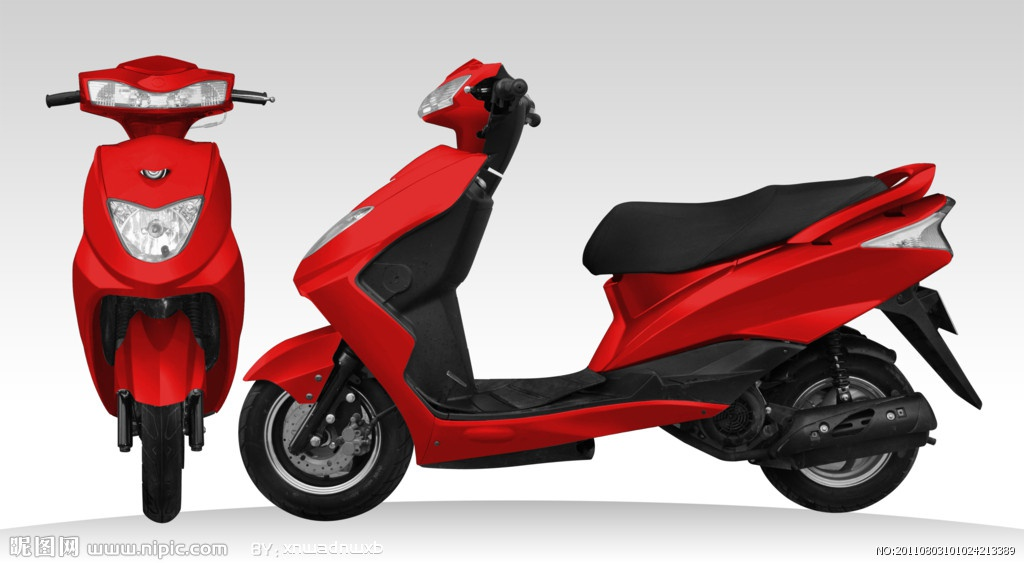non-vehicle: (247, 51, 965, 519), (36, 50, 265, 525)
